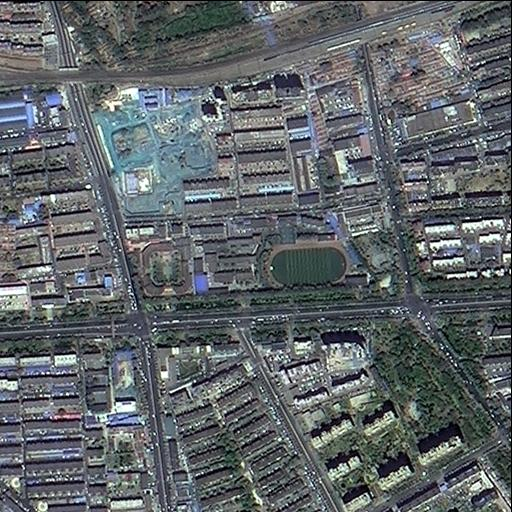school: (192, 215, 371, 299)
